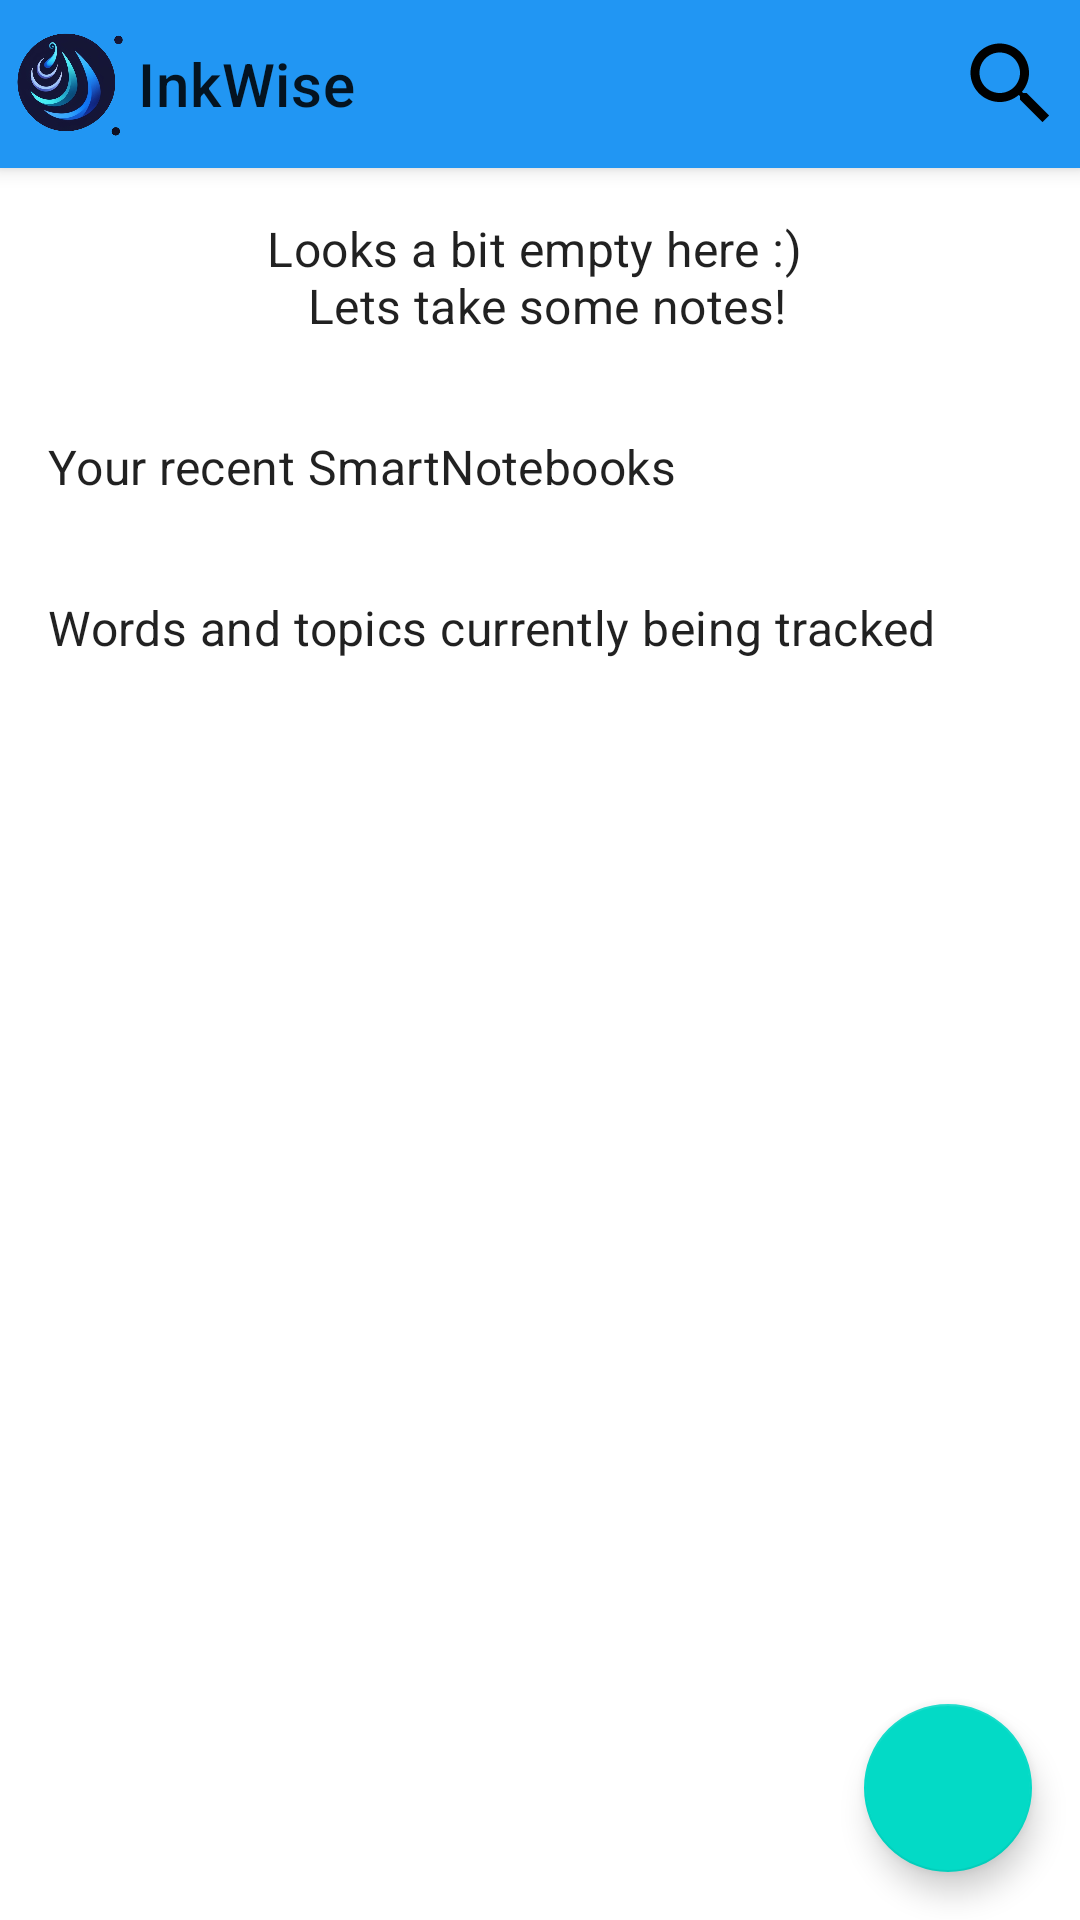

Where to tap for icons on this 1080 × 1920 app screen, as (x=x, y=y):
search: (x=1009, y=82)
